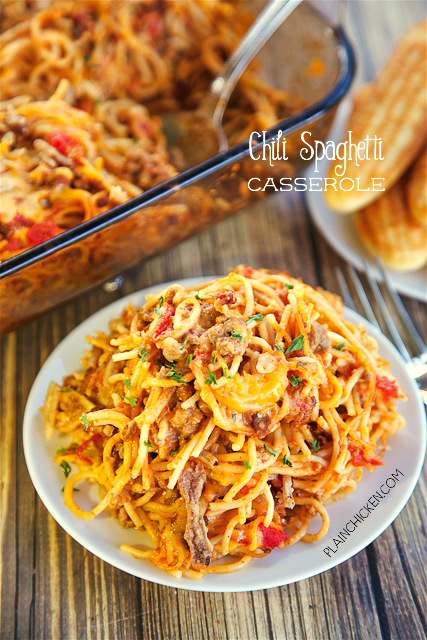plain spaghetti: (73, 282, 382, 549)
